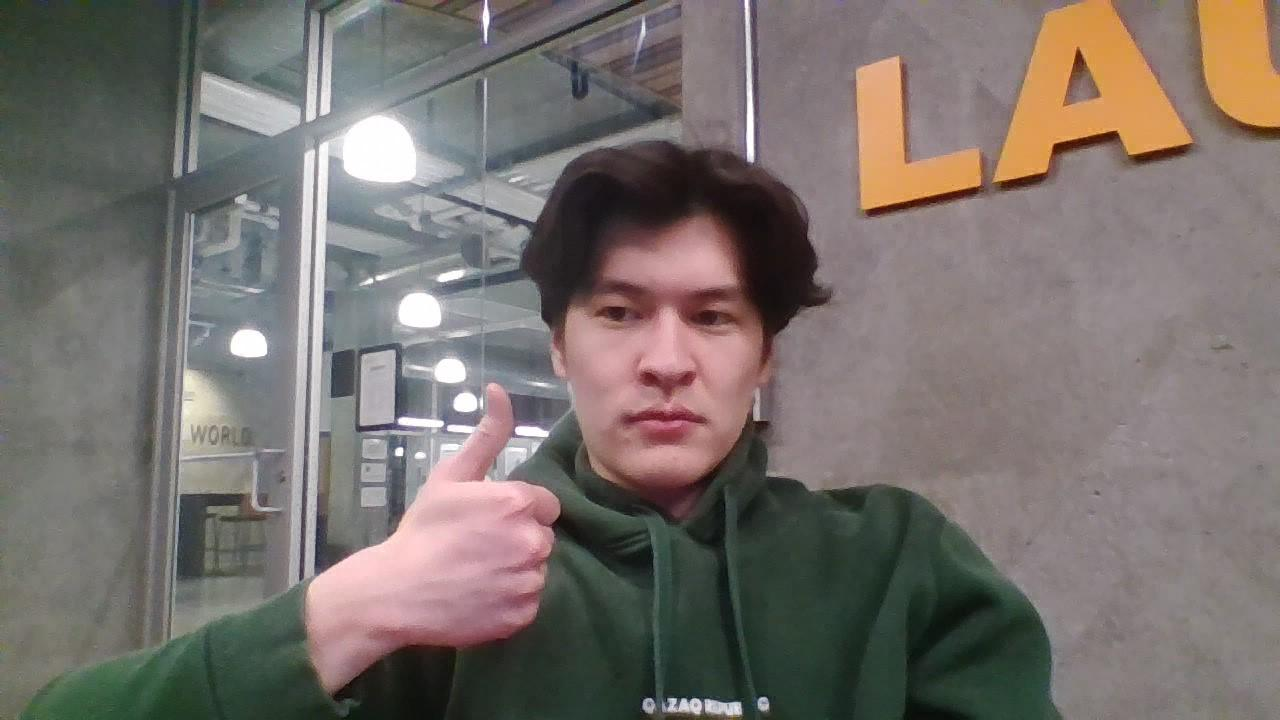thumbsUp: (400, 386, 557, 648)
